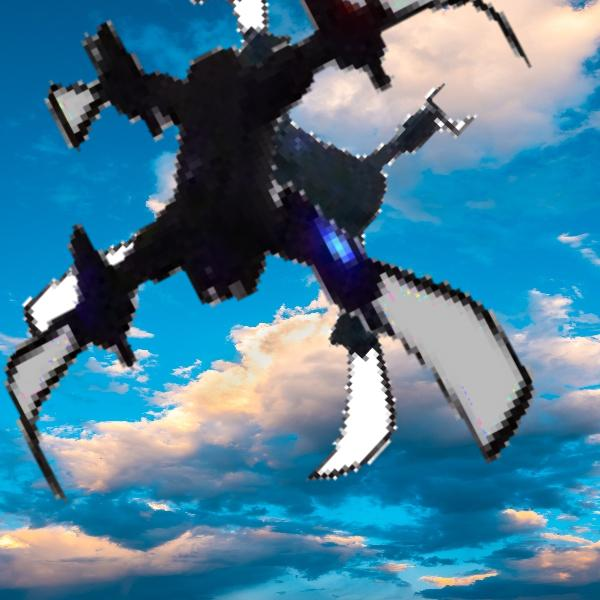drone: (27, 3, 523, 499)
